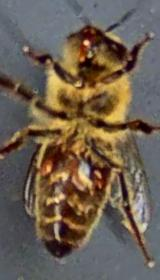varroa_mite: (32, 148, 64, 180), (84, 166, 113, 197)
